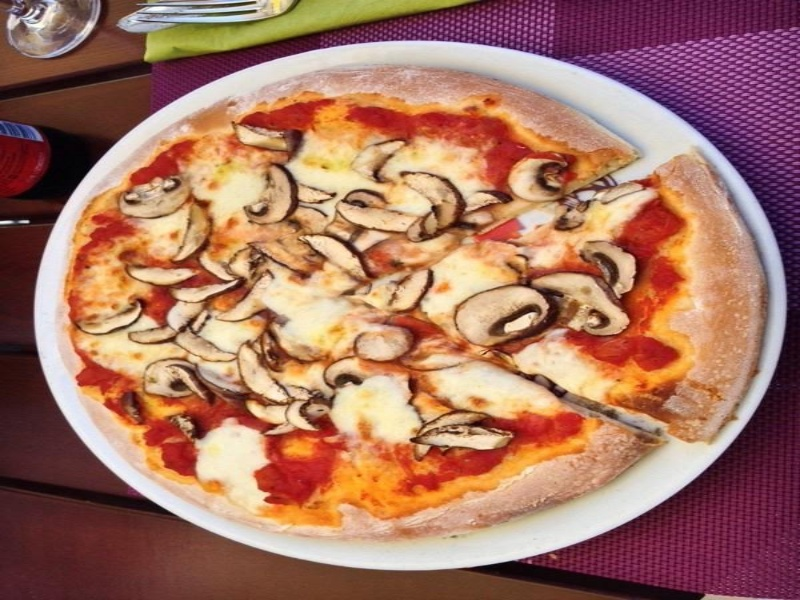champignon: (447, 282, 557, 349), (242, 165, 304, 230), (508, 150, 575, 207), (114, 176, 193, 223)
